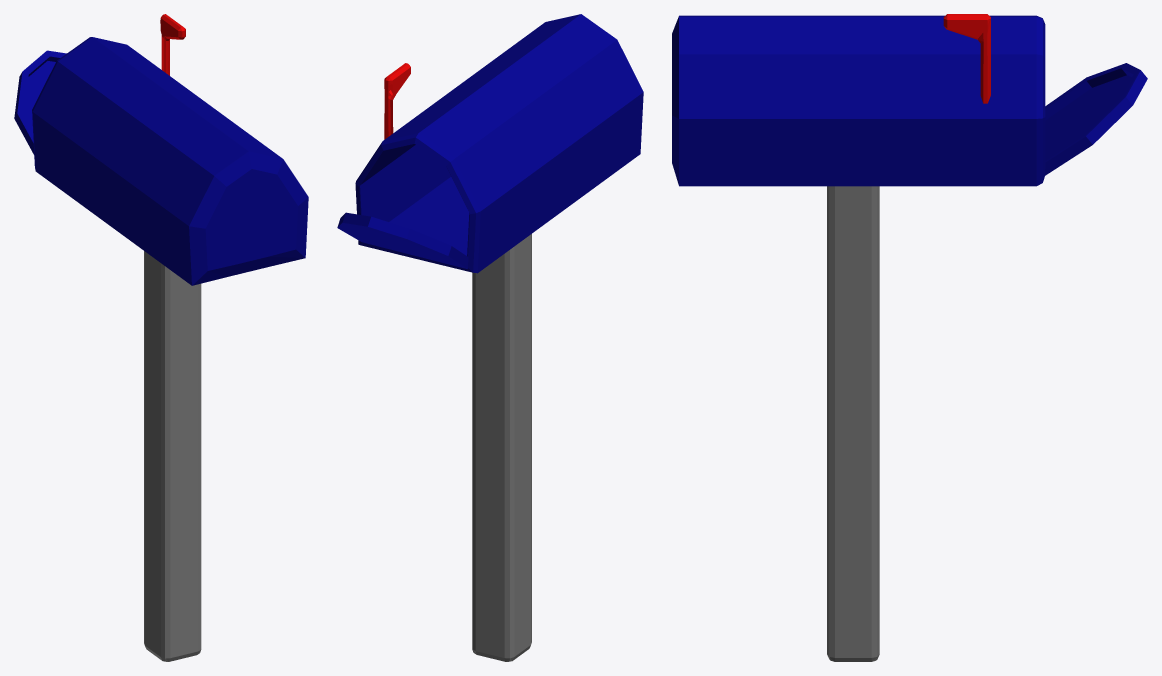
Rendered from MailboxOpenRed.fbx.
3 renders of one model, left to right at view 1: azimuth 30°, elevation 25°; view 2: azimuth 150°, elevation 25°; view 3: azimuth 270°, elevation 25°, orthographic. The views are drawn at different scales.
Parts seen in each view (by area): view 1: MailboxOpened; view 2: MailboxOpened; view 3: MailboxOpened.
Boxes of the visible parts, bbox=[...] form: MailboxOpened: bbox=[14, 14, 308, 661]; MailboxOpened: bbox=[337, 14, 643, 661]; MailboxOpened: bbox=[672, 14, 1147, 661].
Size of the model in its own units: 0.487 by 2.27 by 1.47.
